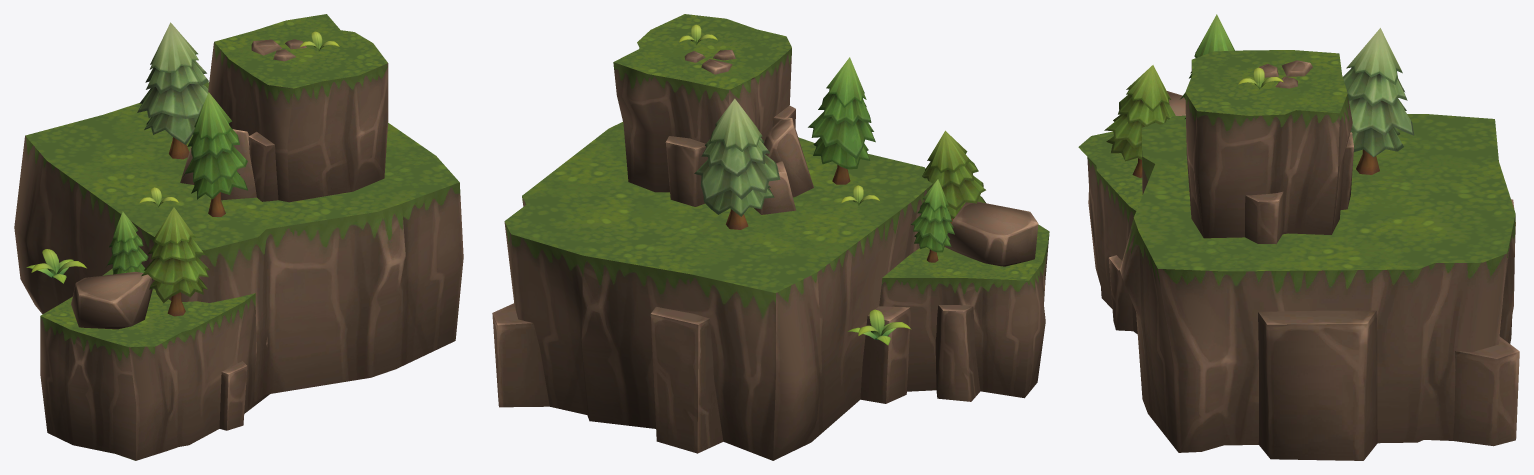
The model's file is Woodland_Hill_07.gltf.
3 renders of one model, left to right at view 1: azimuth 30°, elevation 25°; view 2: azimuth 150°, elevation 25°; view 3: azimuth 270°, elevation 25°, orthographic. The views are drawn at different scales.
Parts seen in each view (by area): view 1: rockL_wood, rockM_wood, rockS_wood, Pine01 (1), Pine03, Pine02 (1), rock5, Pine03 (1), rock6, Plant02, rock1 (1); view 2: rockL_wood, rockS_wood, rockM_wood, Pine01 (1), Pine03, rock5, rock6, Pine02 (1), Pine03 (1), Plant02, rock1 (1); view 3: rockL_wood, rockS_wood, rockM_wood, Pine01 (1), Pine02 (1), Pine03, rock1 (1).
Boxes of the visible parts, <box> form: rockL_wood: <box>14,82,463,401</box>; rockM_wood: <box>40,268,269,460</box>; rockS_wood: <box>208,14,388,202</box>; Pine01 (1): <box>137,22,208,159</box>; Pine03: <box>183,92,247,216</box>; Pine02 (1): <box>141,207,209,316</box>; rock5: <box>71,271,152,329</box>; Pine03 (1): <box>106,211,148,274</box>; rock6: <box>180,129,256,200</box>; Plant02: <box>26,249,86,283</box>; rock1 (1): <box>251,39,306,61</box>; rockL_wood: <box>492,122,932,460</box>; rockS_wood: <box>613,14,795,206</box>; rockM_wood: <box>879,224,1049,401</box>; Pine01 (1): <box>694,98,780,229</box>; Pine03: <box>808,57,875,184</box>; rock5: <box>944,201,1038,266</box>; rock6: <box>754,118,813,214</box>; Pine02 (1): <box>922,130,985,223</box>; Pine03 (1): <box>911,179,954,262</box>; Plant02: <box>847,309,911,345</box>; rock1 (1): <box>684,49,735,74</box>; rockL_wood: <box>1120,114,1519,460</box>; rockS_wood: <box>1185,50,1353,244</box>; rockM_wood: <box>1078,131,1142,333</box>; Pine01 (1): <box>1343,28,1414,174</box>; Pine02 (1): <box>1104,65,1175,177</box>; Pine03: <box>1180,14,1234,118</box>; rock1 (1): <box>1259,60,1312,88</box>.
Size of the model in its own units: 3.76 by 2.59 by 3.13.
Materials: 5 (5 with a texture image).
